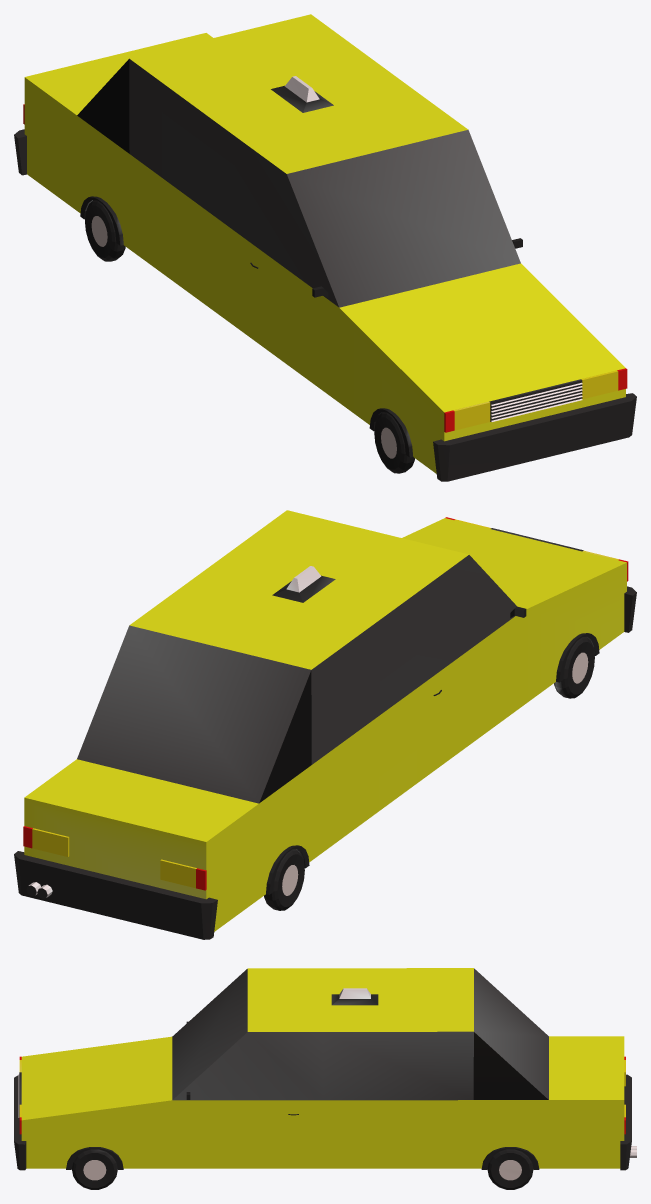
Rendered from taxi.fbx.
3 views of the same model, one above another, from view 1: azimuth 30°, elevation 25°; view 2: azimuth 150°, elevation 25°; view 3: azimuth 270°, elevation 25° (orthographic). The views are drawn at different scales.
Parts seen in each view (by area): view 1: taxi; view 2: taxi; view 3: taxi.
Boxes of the visible parts, x1,y1,x2,y2 form: taxi: [14, 14, 636, 481]; taxi: [14, 510, 636, 939]; taxi: [14, 968, 636, 1189].
Bounding box in the file's own units: 132 × 141 × 476.
